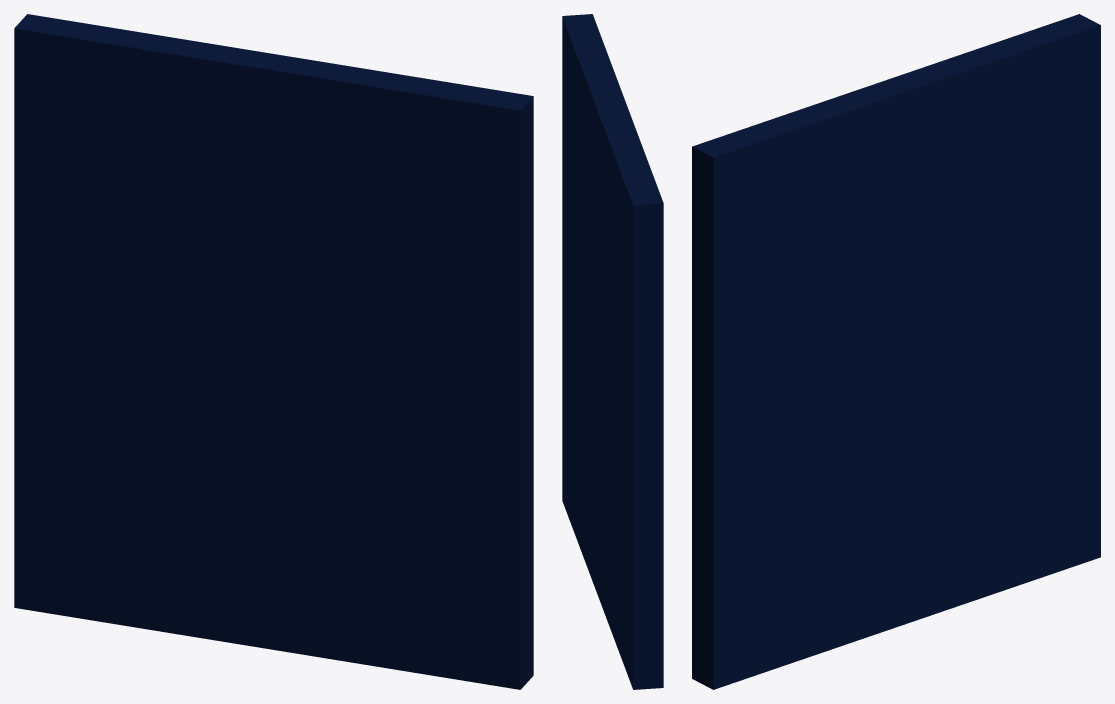
The picture shows the model from 3 angles, left to right: view 1: azimuth 30°, elevation 25°; view 2: azimuth 150°, elevation 25°; view 3: azimuth 270°, elevation 25°; orthographic projection. The views are drawn at different scales.
Visible parts, largest first — view 1: Cube.589; view 2: Cube.589; view 3: Cube.589.
Part boxes in pixels (box(x1,y1,x2,y2)): Cube.589: box(14, 14, 533, 689); Cube.589: box(562, 14, 663, 689); Cube.589: box(692, 14, 1100, 689).
Size of the model in its own units: 219 by 378 by 263.
